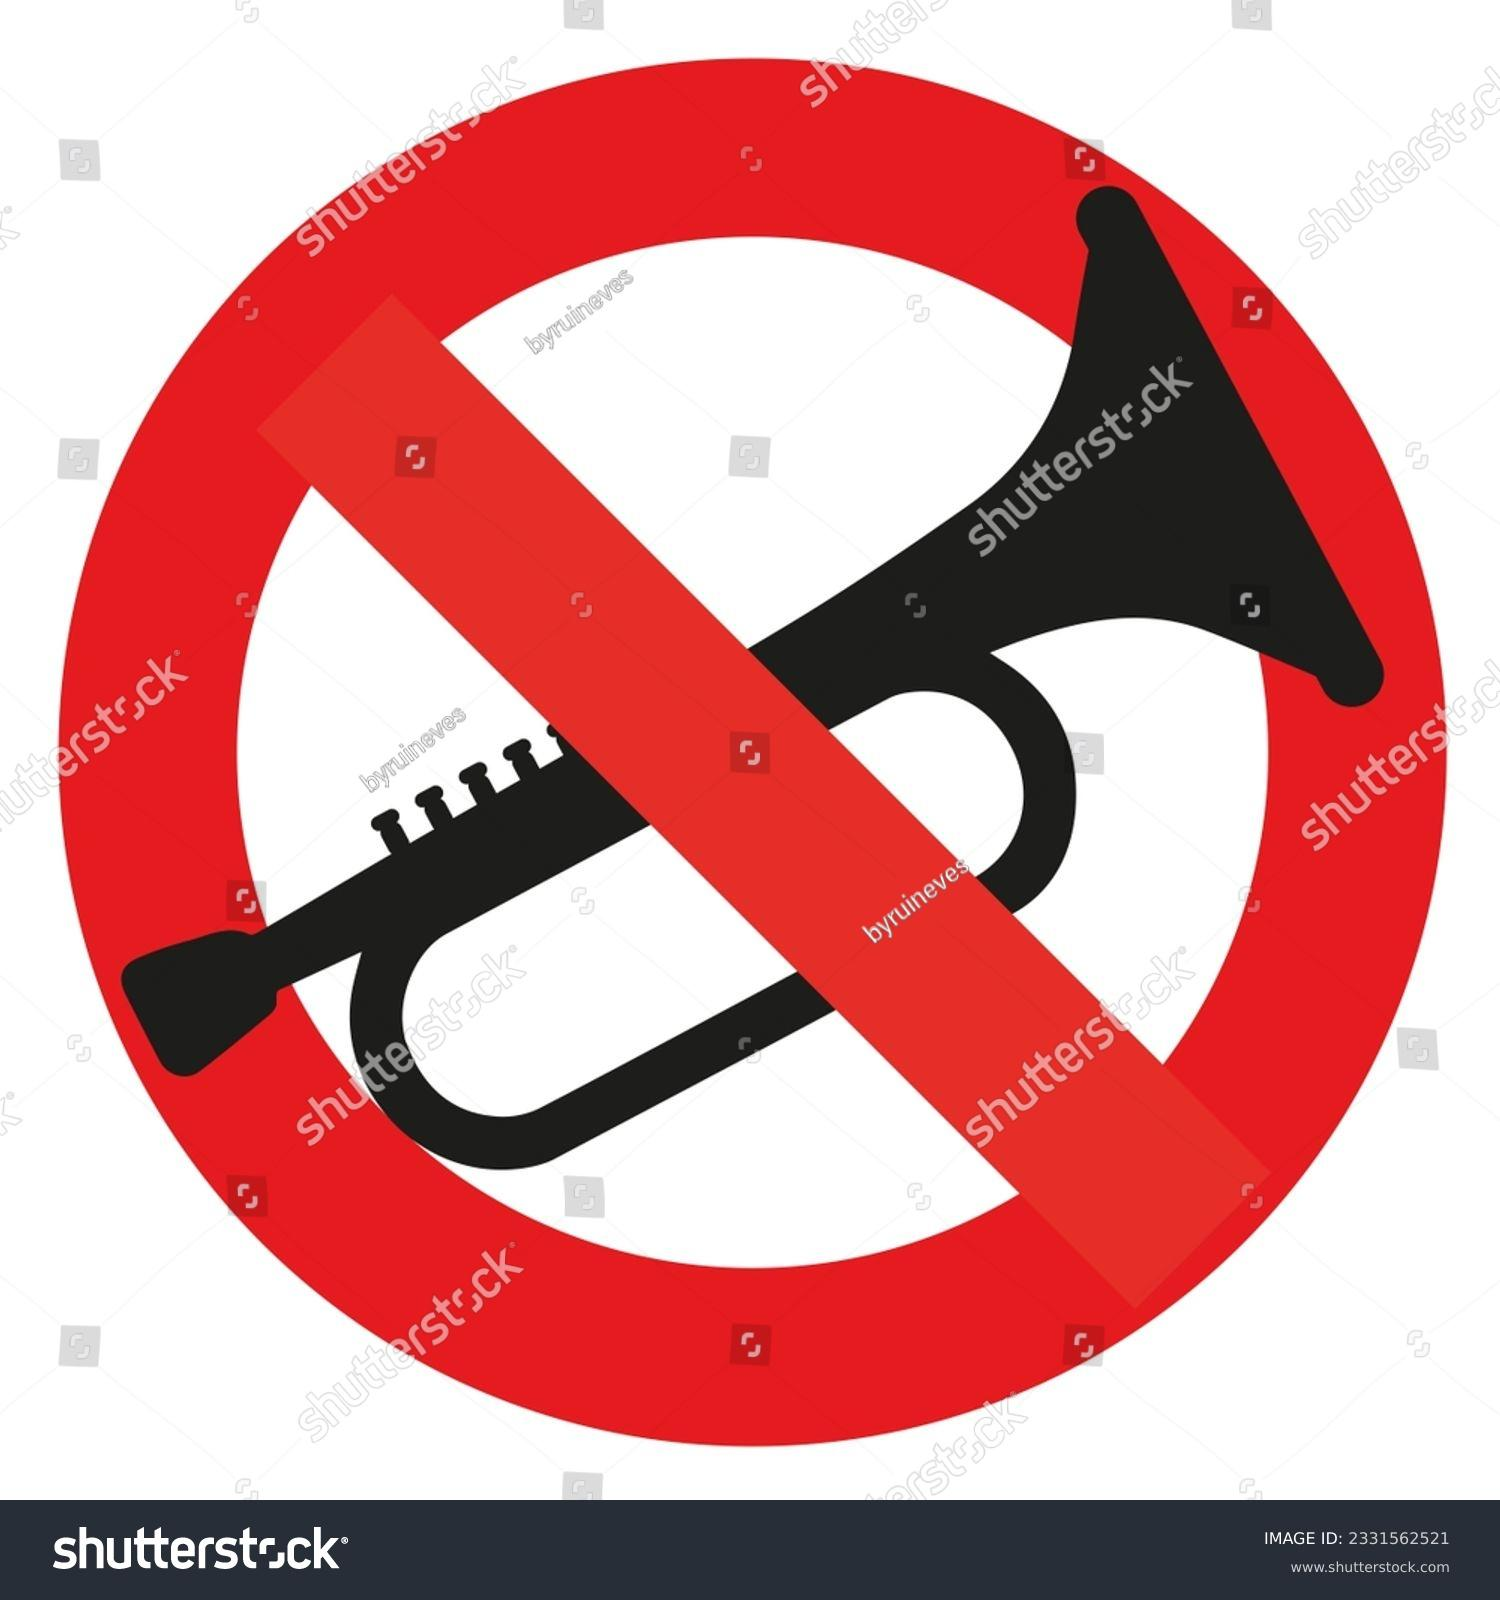Horn Prohibited: (85, 121, 1453, 1332)
